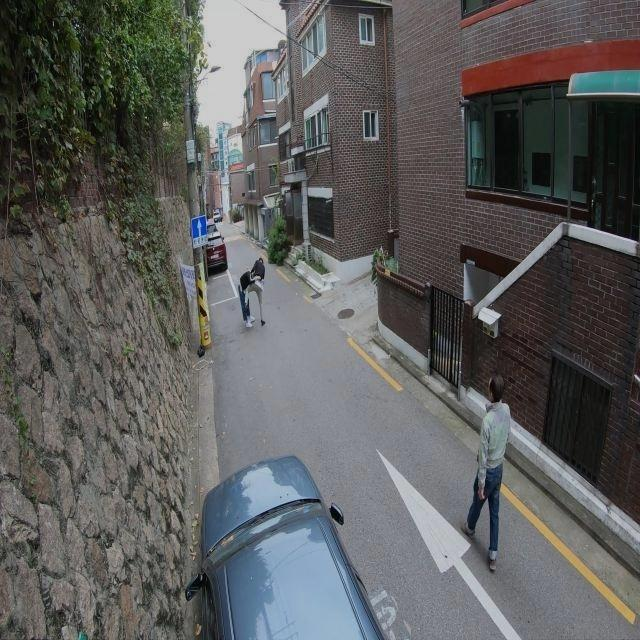fight: (237, 256, 266, 329)
non-fight: (466, 370, 512, 571)
